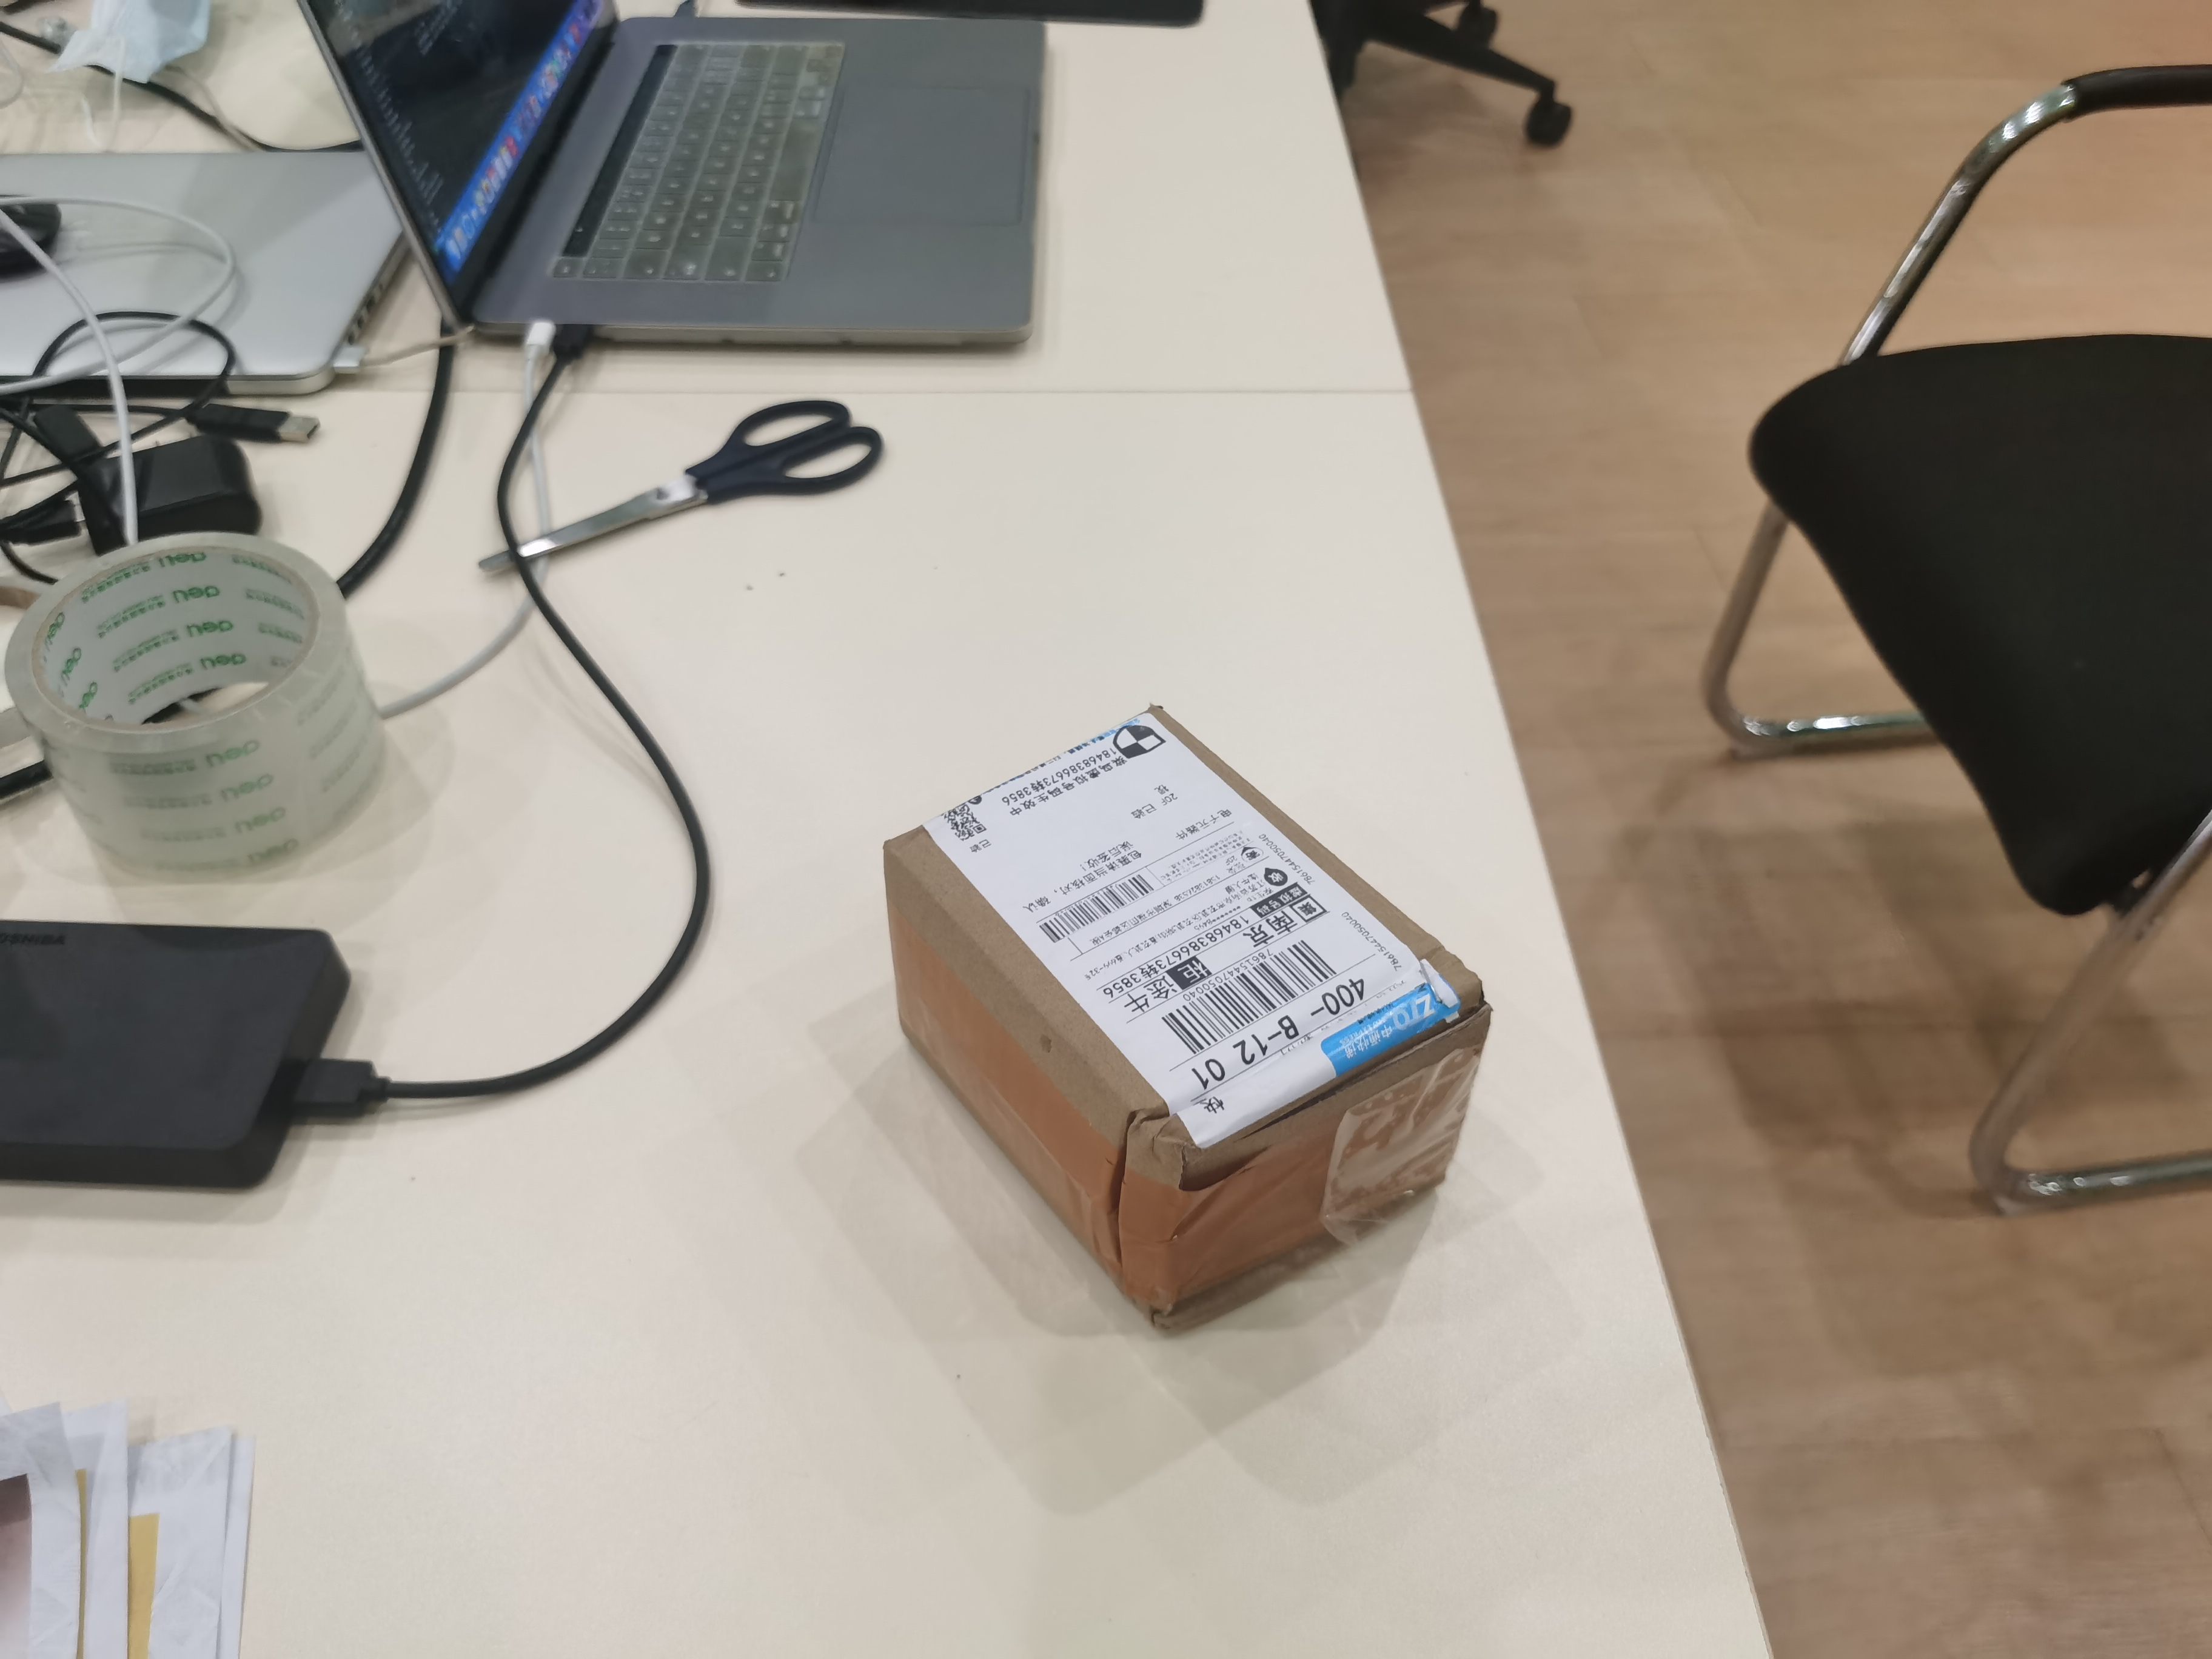box: (873, 697, 1510, 1364)
